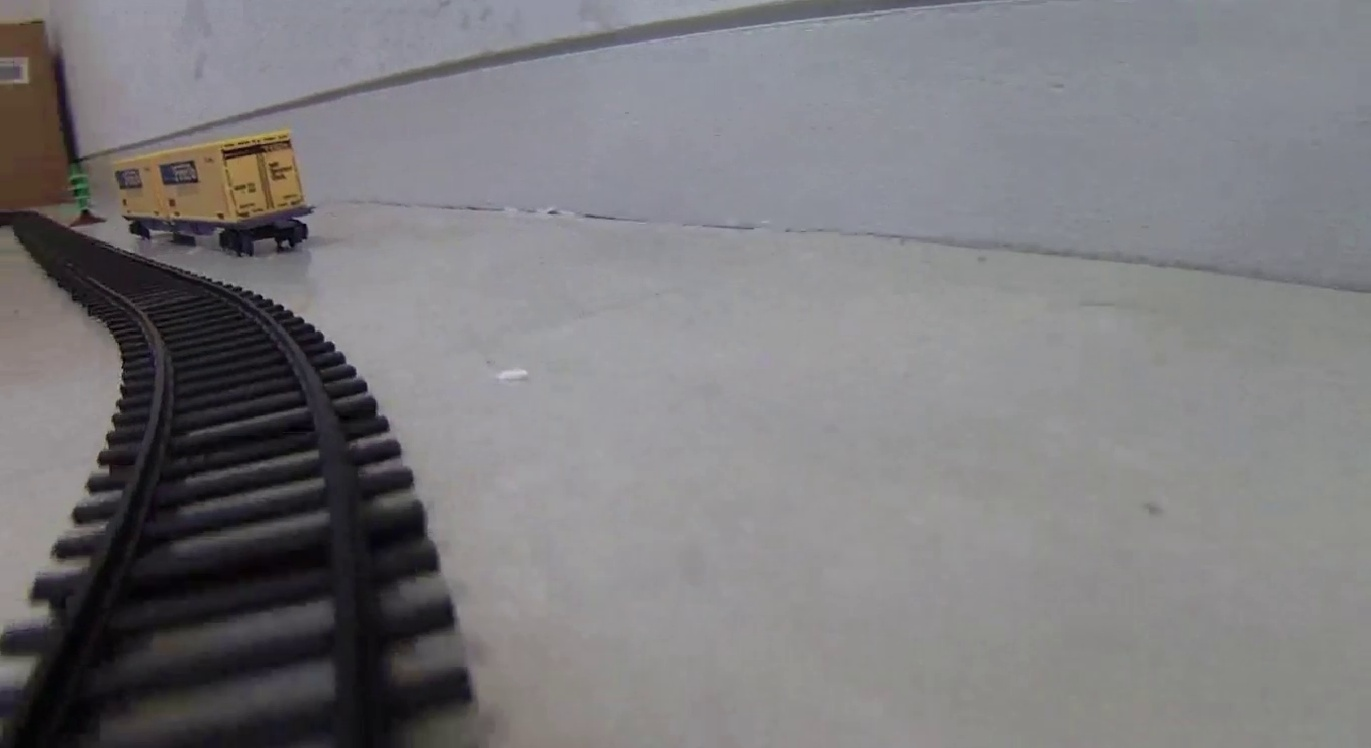tree: (62, 160, 108, 229)
